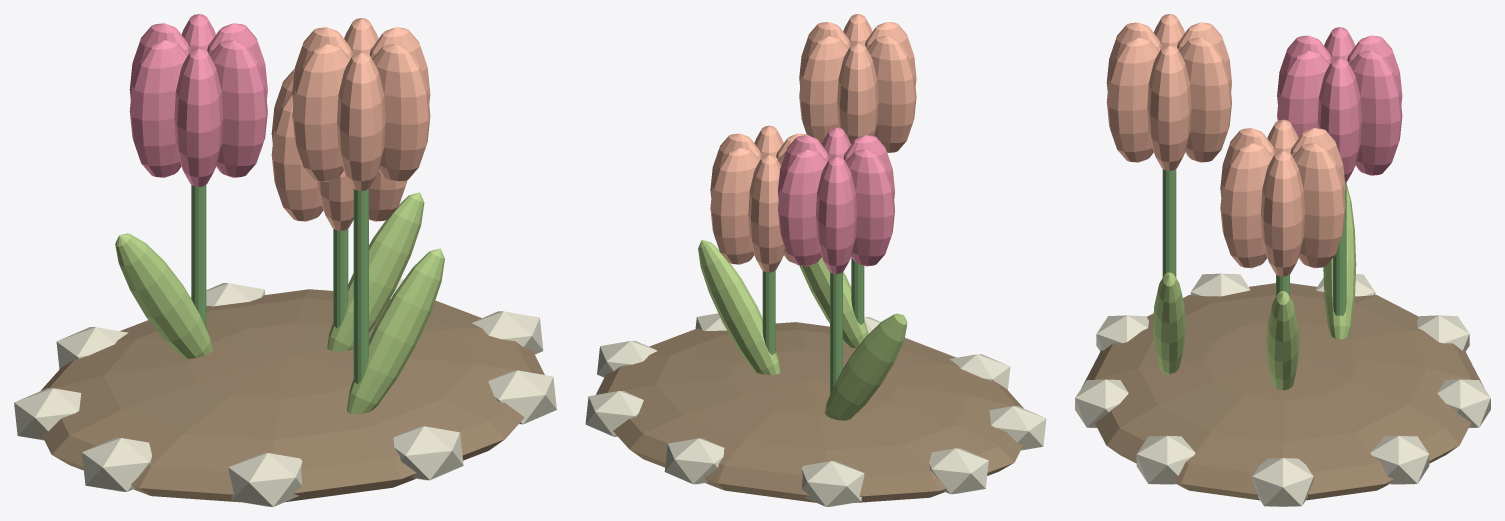
Rendered from Tulip.fbx.
3 renders of one model, left to right at view 1: azimuth 30°, elevation 25°; view 2: azimuth 150°, elevation 25°; view 3: azimuth 270°, elevation 25°, orthographic. The views are drawn at different scales.
Parts seen in each view (by area): view 1: Oval garden bed, Upright stem leaf.002, Upright stem leaf.001, Upright tulip petal.015, Upright tulip petal.011, Upright tulip petal.017, Upright tulip petal.009, Upright tulip petal.016, Upright tulip petal.010, Upright stem leaf, Upright tulip petal.003, Bed edging pebble.006 (+18 smaller); view 2: Oval garden bed, Upright stem leaf, Upright stem leaf.001, Upright tulip petal.001, Upright tulip petal.007, Upright tulip petal.009, Upright tulip petal.015, Upright tulip petal.008, Upright tulip petal.013, Upright tulip petal.014, Upright tulip petal.002, Bed edging pebble.003 (+18 smaller); view 3: Oval garden bed, Upright tulip petal.007, Upright tulip petal.017, Upright tulip petal.013, Upright tulip petal.001, Upright tulip petal.005, Upright tulip petal.012, Upright tulip petal, Upright tulip petal.006, Upright tulip petal.011, Upright stem leaf.002, Upright stem leaf (+20 smaller).
Part boxes in pixels (<box>): Oval garden bed: <box>41,289,544,502</box>; Upright stem leaf.002: <box>347,248,444,414</box>; Upright stem leaf.001: <box>115,233,212,358</box>; Upright tulip petal.015: <box>292,44,350,181</box>; Upright tulip petal.011: <box>209,40,267,177</box>; Upright tulip petal.017: <box>372,44,430,181</box>; Upright tulip petal.009: <box>129,40,187,177</box>; Upright tulip petal.016: <box>337,51,385,191</box>; Upright tulip petal.010: <box>174,47,223,186</box>; Upright stem leaf: <box>327,192,424,351</box>; Upright tulip petal.003: <box>271,91,323,221</box>; Bed edging pebble.006: <box>228,452,302,506</box>; Oval garden bed: <box>596,322,1023,502</box>; Upright stem leaf: <box>698,240,780,374</box>; Upright stem leaf.001: <box>824,313,907,420</box>; Upright tulip petal.001: <box>710,147,759,264</box>; Upright tulip petal.007: <box>778,149,827,266</box>; Upright tulip petal.009: <box>845,149,894,266</box>; Upright tulip petal.015: <box>867,36,916,152</box>; Upright tulip petal.008: <box>815,155,856,274</box>; Upright tulip petal.013: <box>799,36,848,144</box>; Upright tulip petal.014: <box>837,42,878,144</box>; Upright tulip petal.002: <box>748,154,785,272</box>; Bed edging pebble.003: <box>801,461,864,506</box>; Oval garden bed: <box>1082,283,1483,500</box>; Upright tulip petal.007: <box>1349,50,1402,175</box>; Upright tulip petal.017: <box>1106,37,1159,162</box>; Upright tulip petal.013: <box>1179,37,1231,162</box>; Upright tulip petal.001: <box>1293,143,1345,268</box>; Upright tulip petal.005: <box>1220,143,1272,268</box>; Upright tulip petal.012: <box>1147,44,1191,170</box>; Upright tulip petal: <box>1261,150,1304,276</box>; Upright tulip petal.006: <box>1317,57,1361,182</box>; Upright tulip petal.011: <box>1277,50,1329,137</box>; Upright stem leaf.002: <box>1153,272,1185,374</box>; Upright stem leaf: <box>1266,291,1299,390</box>.
Size of the model in its own units: 171 by 148 by 139.
